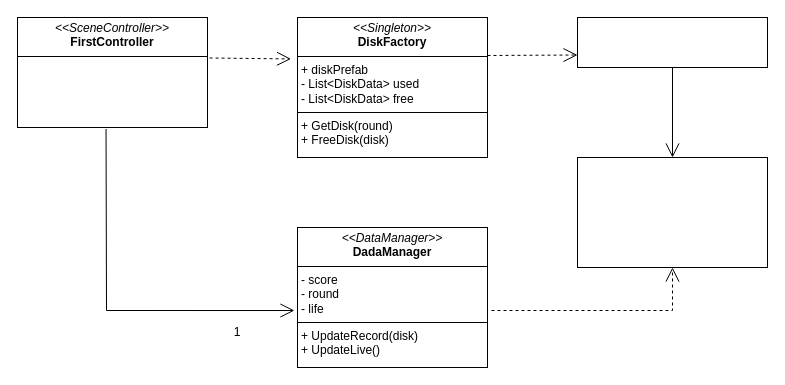
The diagram is 785 pixels wide and 385 high, and some of its shapes have lost their labels. The box of each missing label's shape, as (x1, y1, x2, y2) in pixels:
<<Prefabs>> disk:GameObject: (576, 16, 768, 68)
<<Serialiable>> :DiskData::MonoBehaiviour score foodName speed angle: (576, 156, 768, 268)
